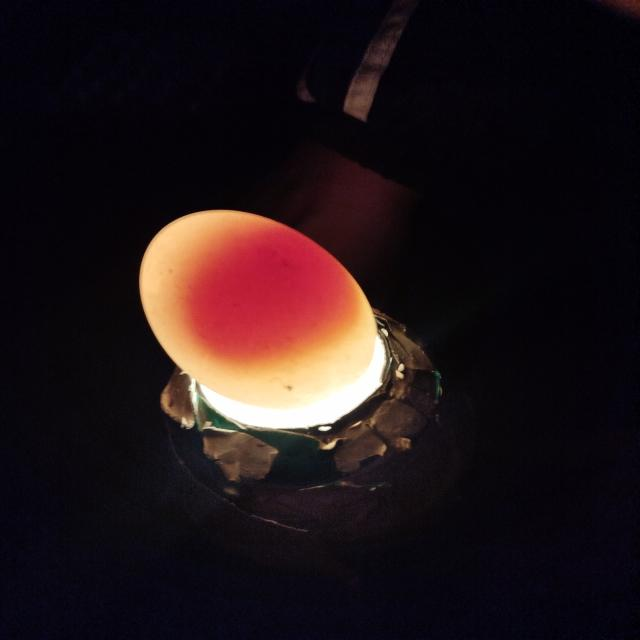Gema Quebrada: (186, 226, 349, 358)
